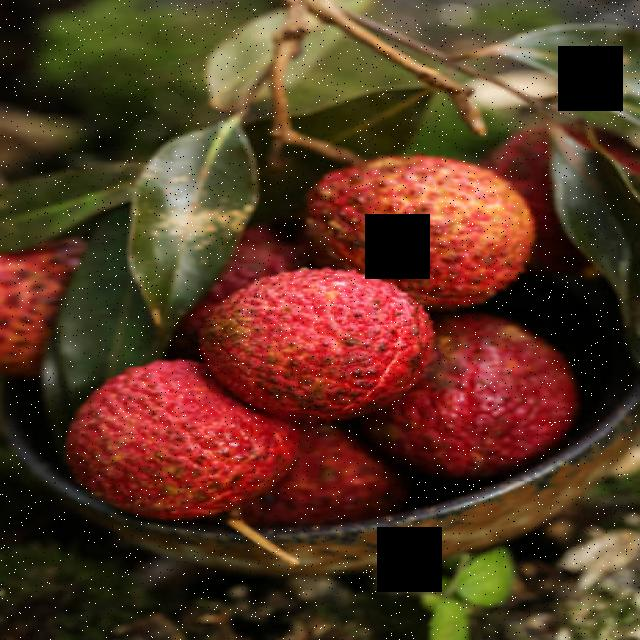lychee: (82, 159, 573, 496)
